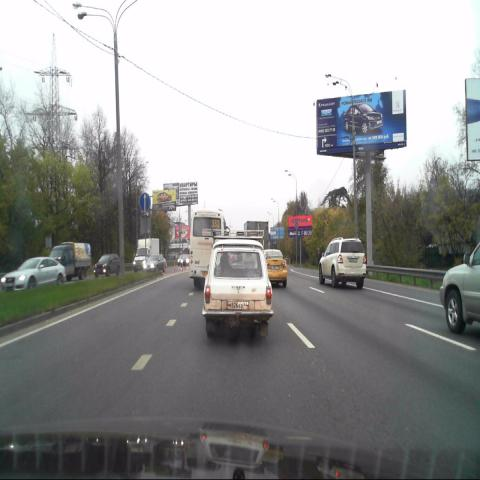4_1_1: (139, 192, 150, 213)
